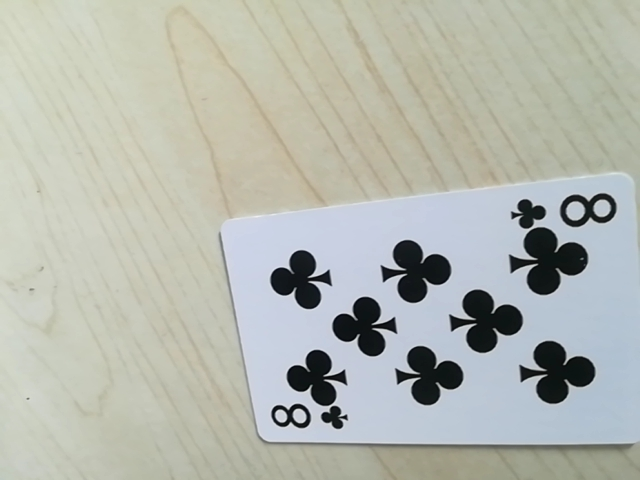mh 8: (509, 188, 619, 232), (265, 399, 349, 437)
